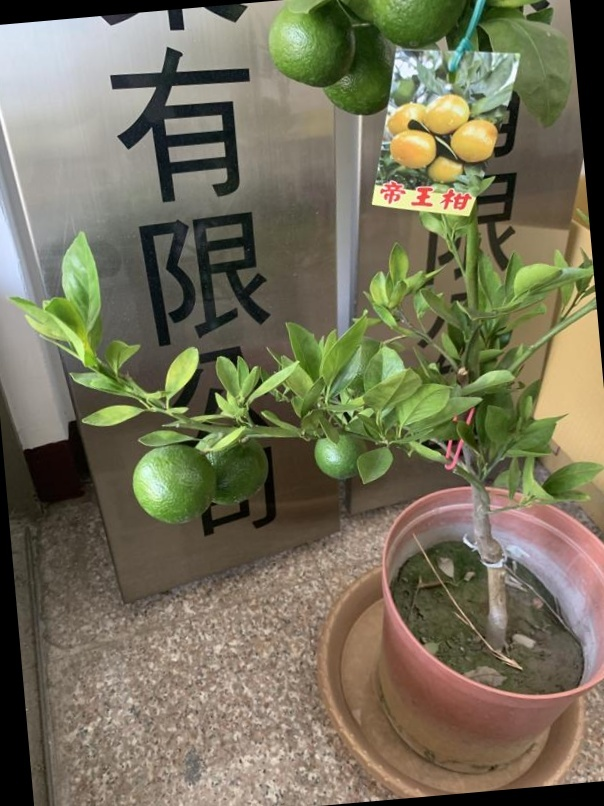Tangerine: (129, 441, 215, 526), (268, 2, 353, 86), (196, 431, 267, 508), (311, 432, 373, 487)
